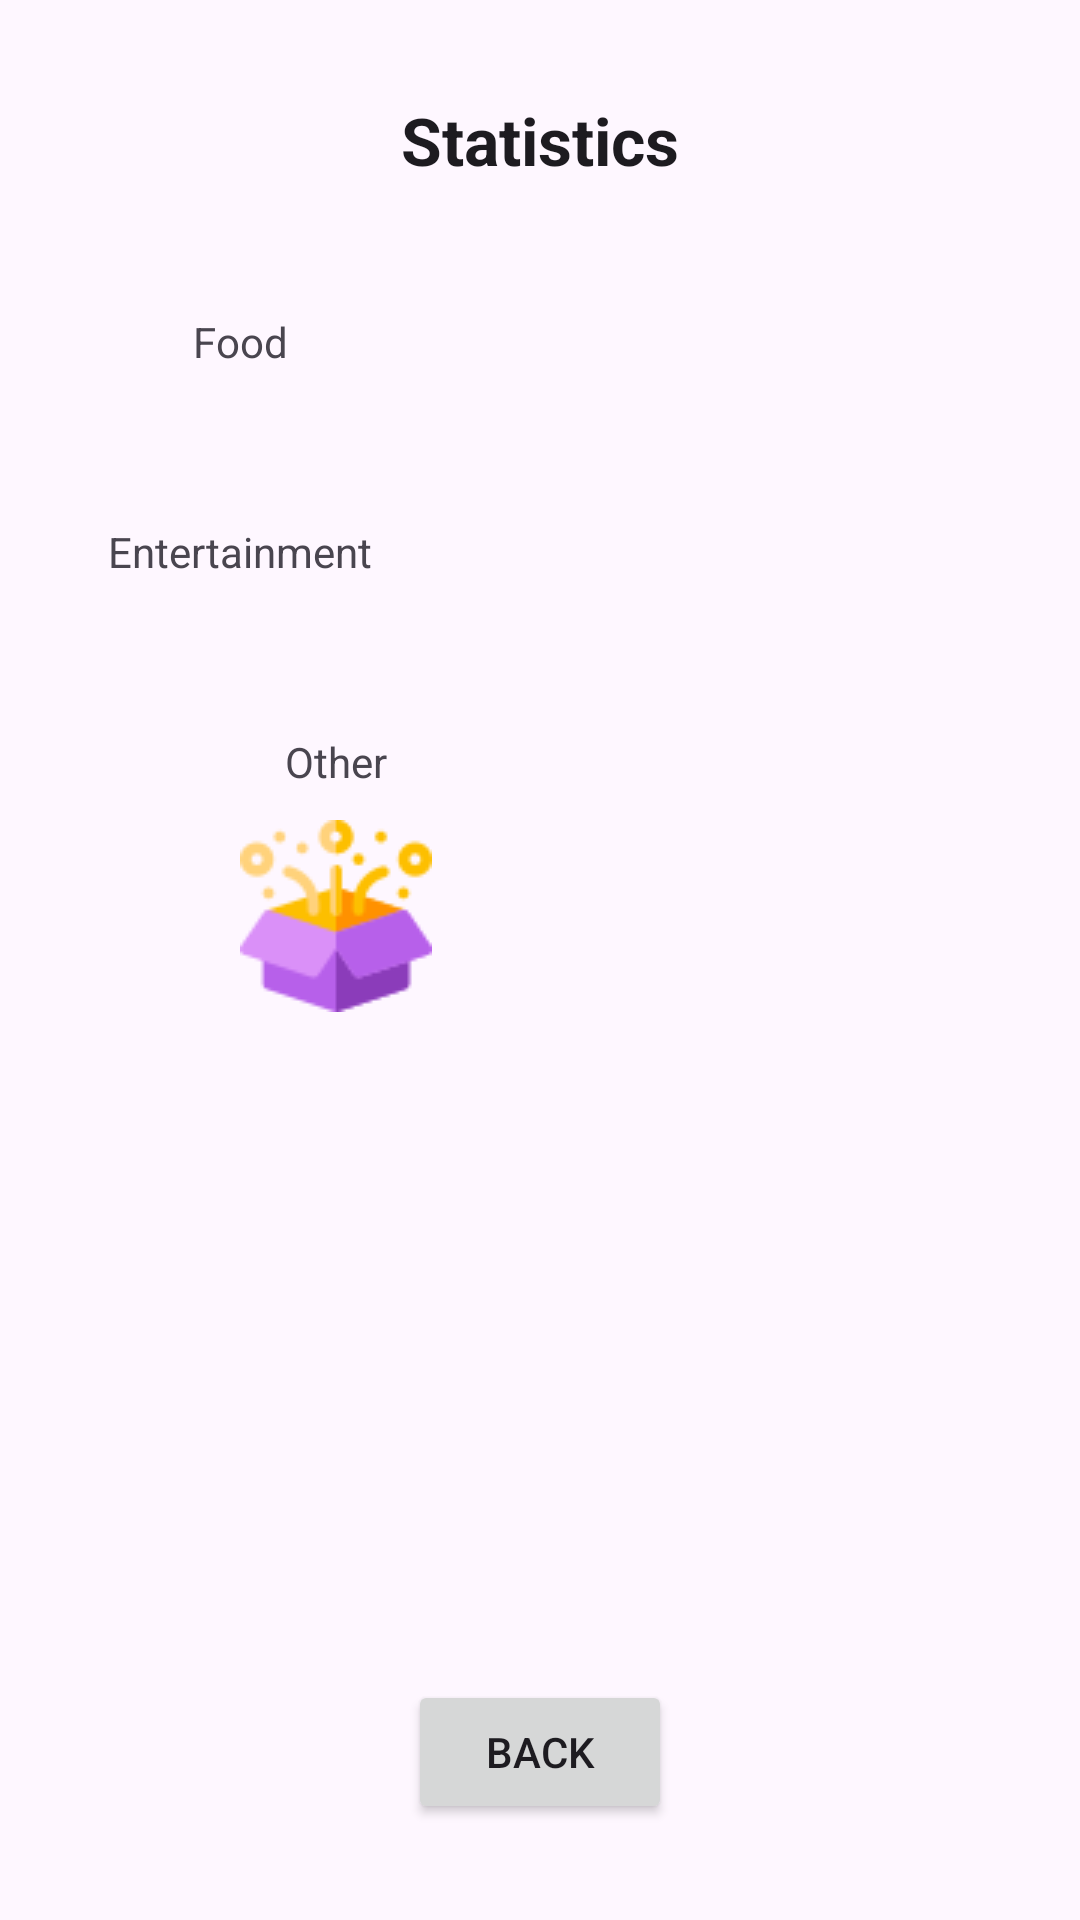

Where icons sit on this 1080px x 1920px app screen, as (x1, y1, x2, y2):
box: (240, 820, 432, 1012)
